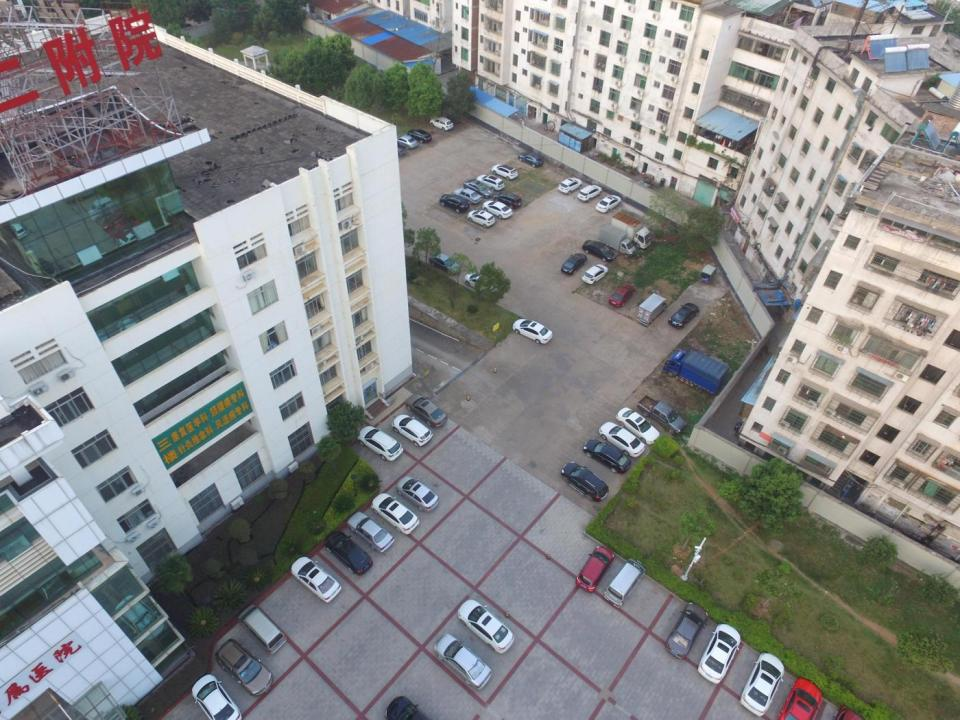car: (213, 638, 273, 697), (434, 633, 493, 690), (457, 598, 515, 654), (740, 652, 785, 717), (698, 623, 742, 685), (664, 601, 708, 660), (290, 556, 342, 604), (191, 674, 242, 720), (324, 531, 374, 575), (370, 492, 420, 535), (346, 511, 396, 553), (560, 461, 610, 502), (776, 677, 822, 720), (575, 545, 615, 593), (615, 406, 661, 446), (582, 438, 632, 474), (356, 425, 404, 462), (598, 422, 645, 458), (395, 475, 439, 513), (404, 393, 448, 428), (392, 414, 434, 447), (512, 318, 554, 344), (462, 270, 500, 294), (668, 302, 700, 329), (582, 239, 616, 262), (428, 252, 461, 275), (608, 282, 635, 308), (560, 252, 588, 275), (481, 200, 514, 219), (463, 178, 494, 198), (581, 264, 609, 285), (492, 191, 522, 210), (439, 194, 470, 212), (467, 209, 496, 228), (595, 194, 623, 212), (557, 176, 583, 195), (476, 174, 505, 191), (576, 184, 603, 202), (453, 188, 483, 204), (491, 164, 518, 180), (384, 140, 408, 158), (518, 151, 544, 167), (393, 134, 418, 150), (429, 116, 454, 132), (406, 129, 432, 144)
truck: (662, 349, 730, 397), (636, 394, 687, 434), (609, 210, 651, 249), (597, 223, 637, 259), (635, 293, 667, 326), (700, 264, 718, 284)
van: (238, 603, 288, 655), (604, 558, 646, 608)
